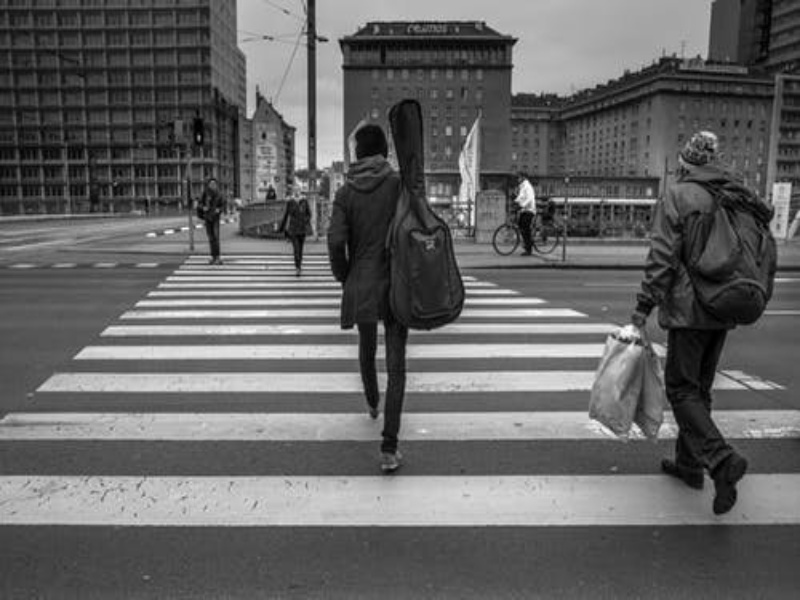zebra cross: (1, 267, 797, 538)
